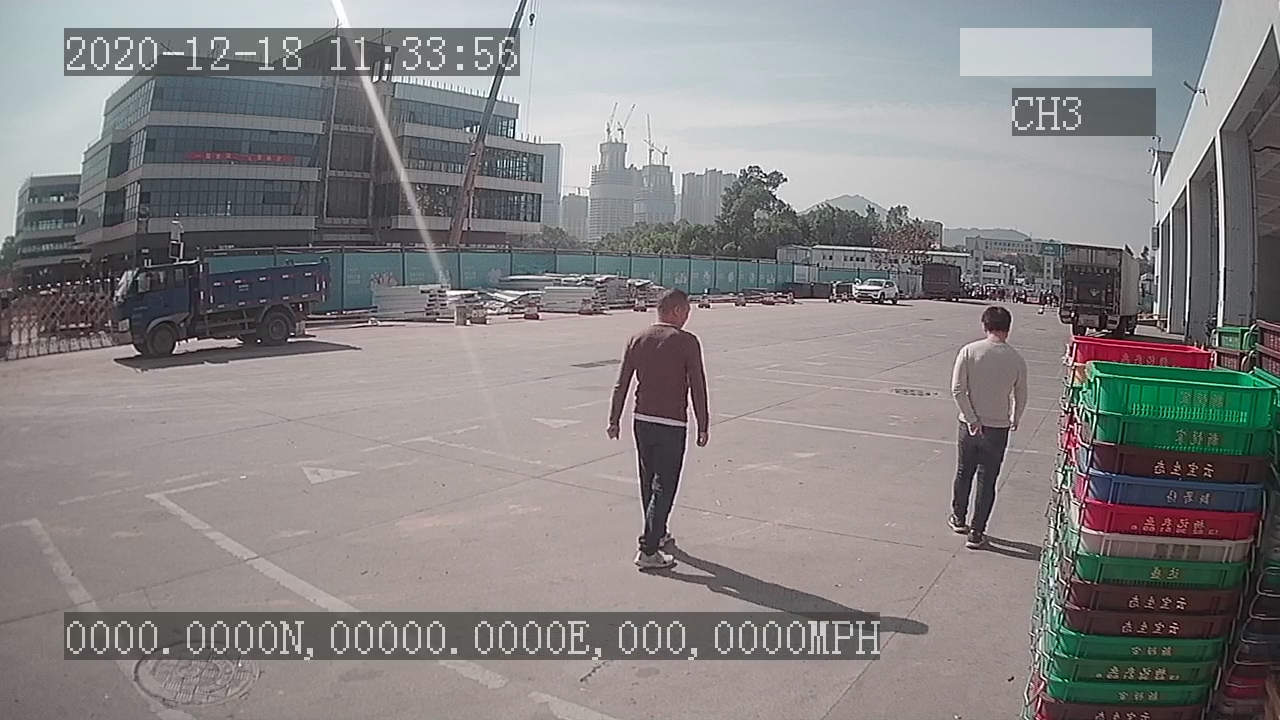person: (608, 277, 711, 573), (937, 303, 1032, 547)
